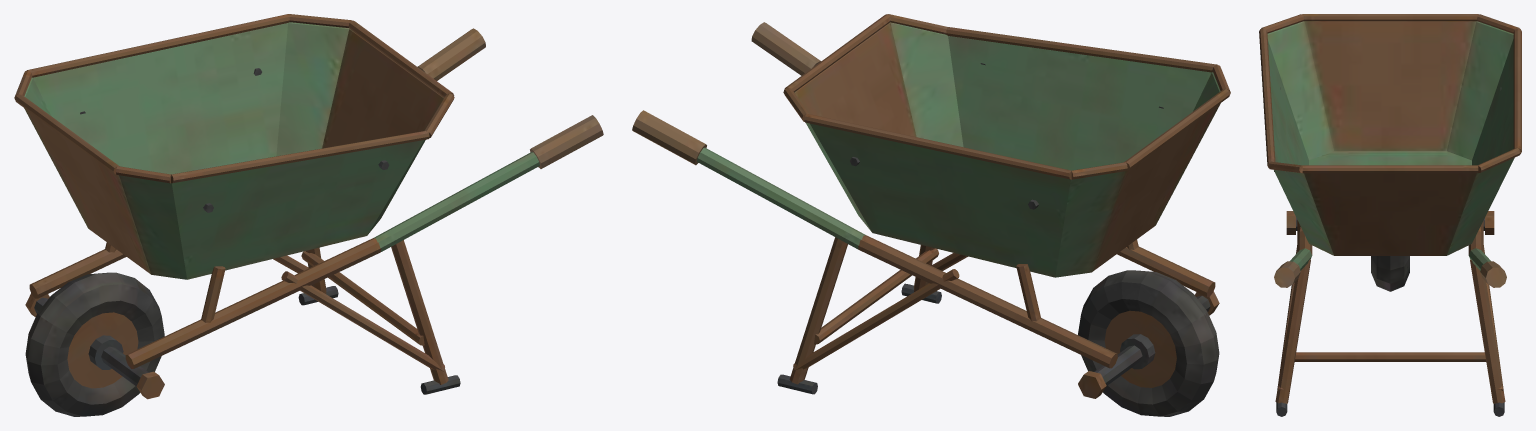
The model's file is D27_rusty_wheelbarrow.glb.
The picture shows the model from 3 angles, left to right: view 1: azimuth 30°, elevation 25°; view 2: azimuth 150°, elevation 25°; view 3: azimuth 270°, elevation 25°; orthographic projection. The views are drawn at different scales.
Visible parts, largest first — view 1: Dented open steel basin; view 2: Dented open steel basin; view 3: Dented open steel basin.
Boxes of the visible parts, <box> form: Dented open steel basin: <box>14,14,603,416</box>; Dented open steel basin: <box>632,14,1230,416</box>; Dented open steel basin: <box>1259,14,1521,416</box>.
Bounding box in the file's own units: 1.2 × 0.651 × 0.5964.
Materials: 5 (5 with a texture image).
